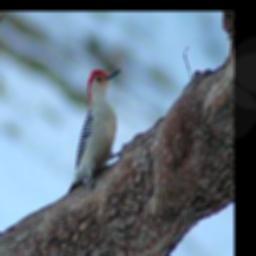Woodpecker: (66, 66, 123, 196)
